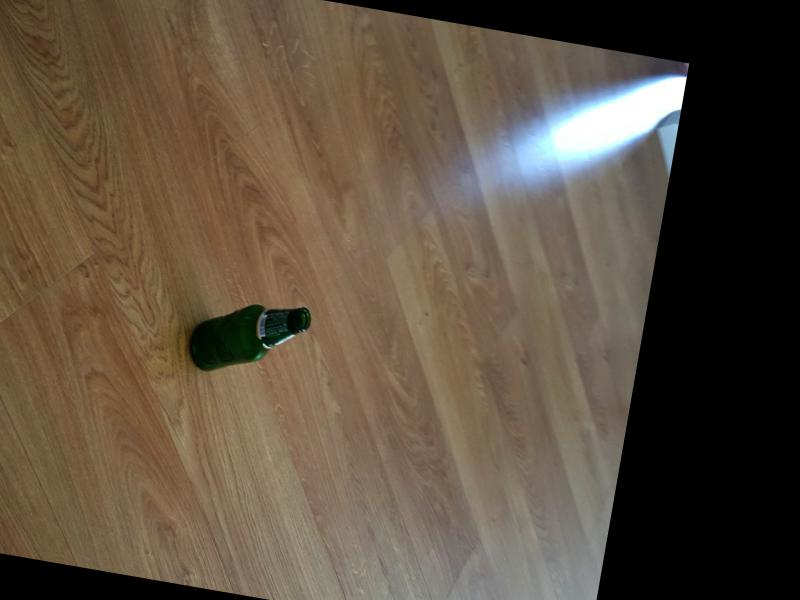Beer: (187, 290, 310, 383)
